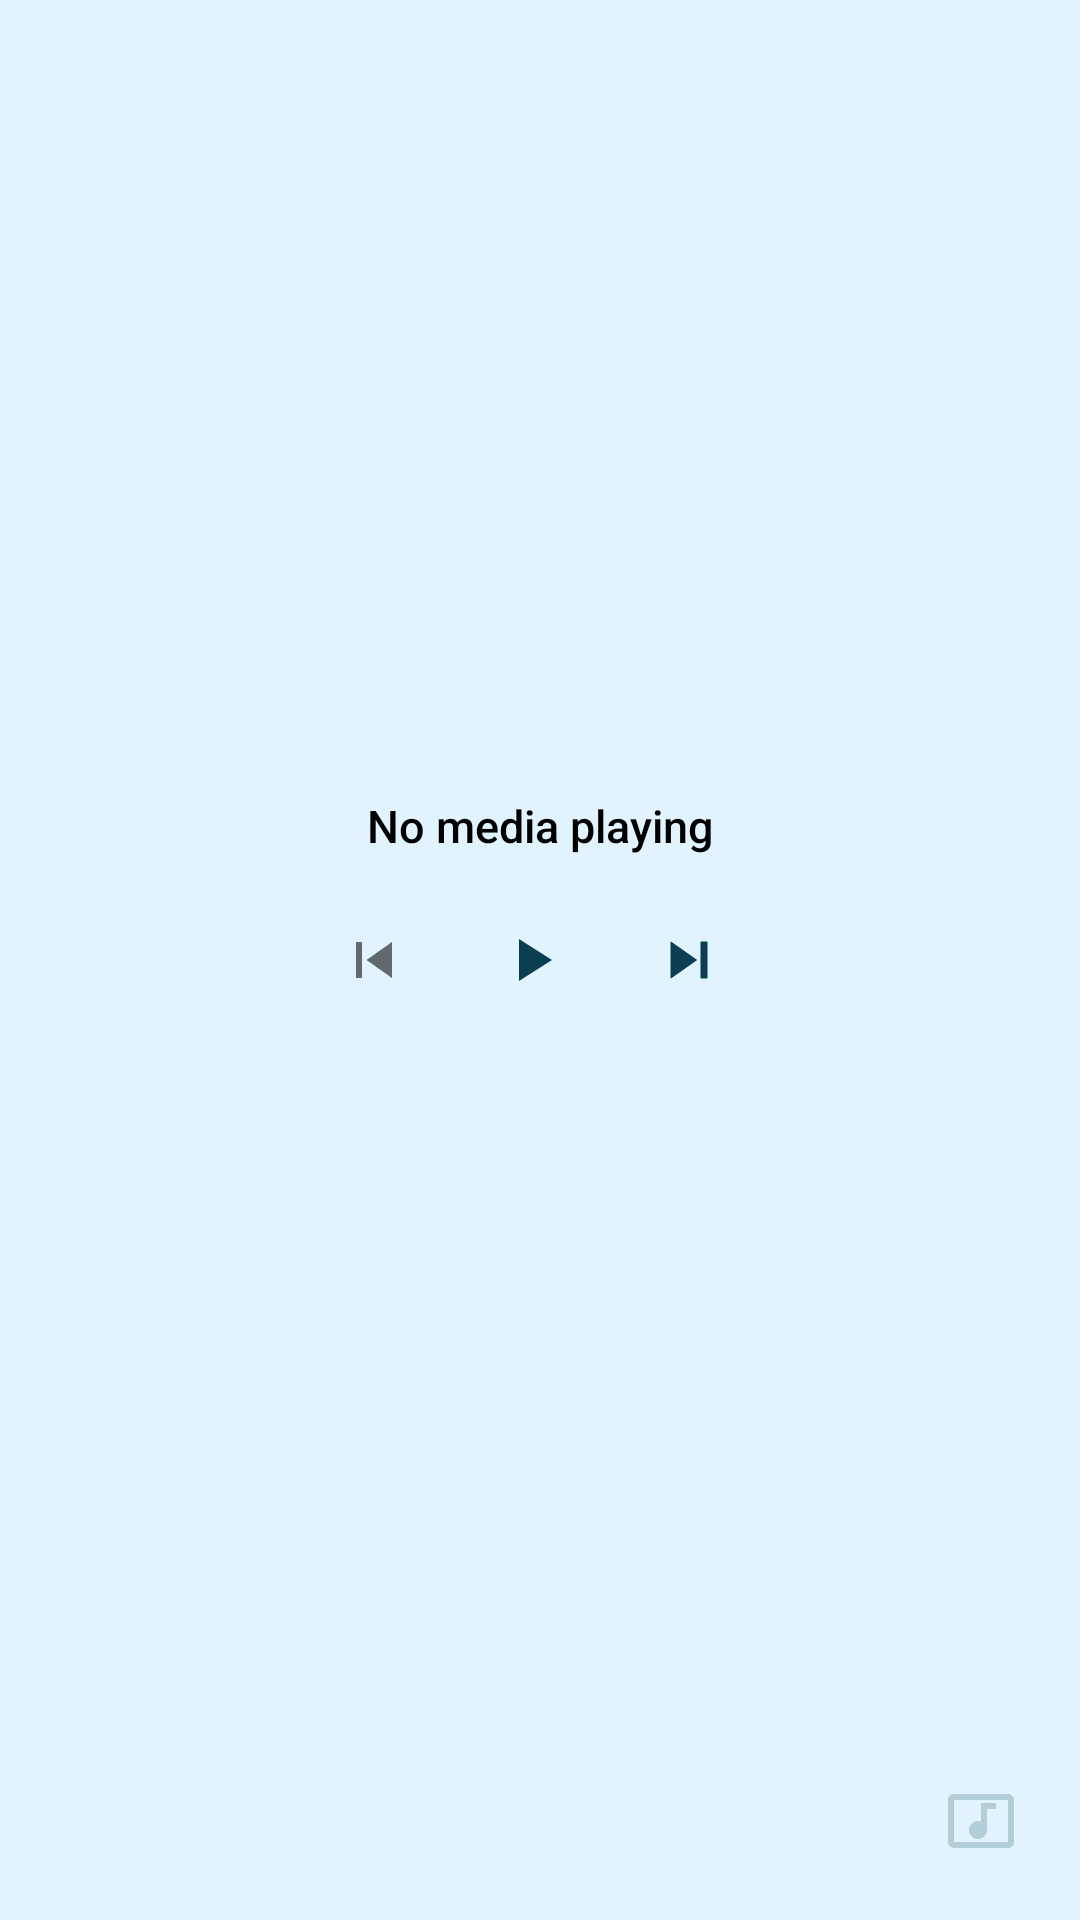

Icons on this 1080×1920 Android screen, each with the point to tap as (x=x, y=y):
next: (x=689, y=960)
Play/pause button: (x=535, y=960)
Previous song button: (x=374, y=960)
